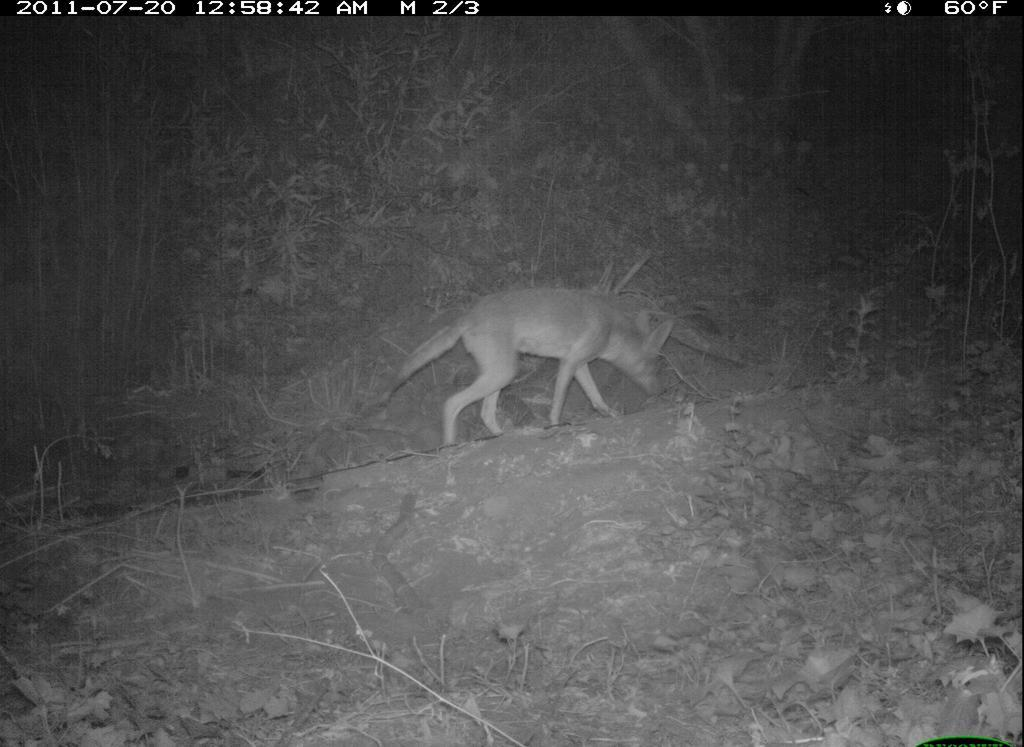coyote: (379, 286, 689, 452)
